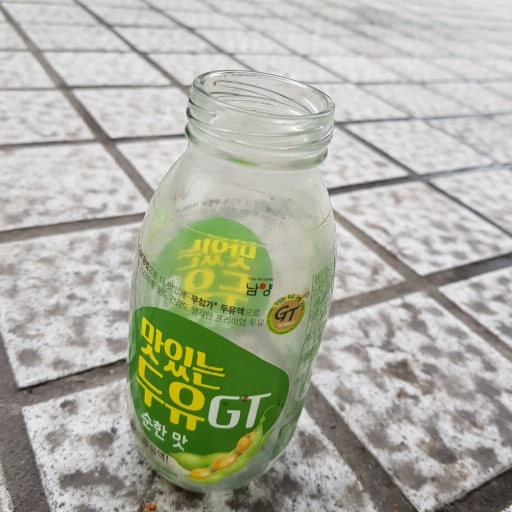Glass_4: (119, 69, 337, 490)
